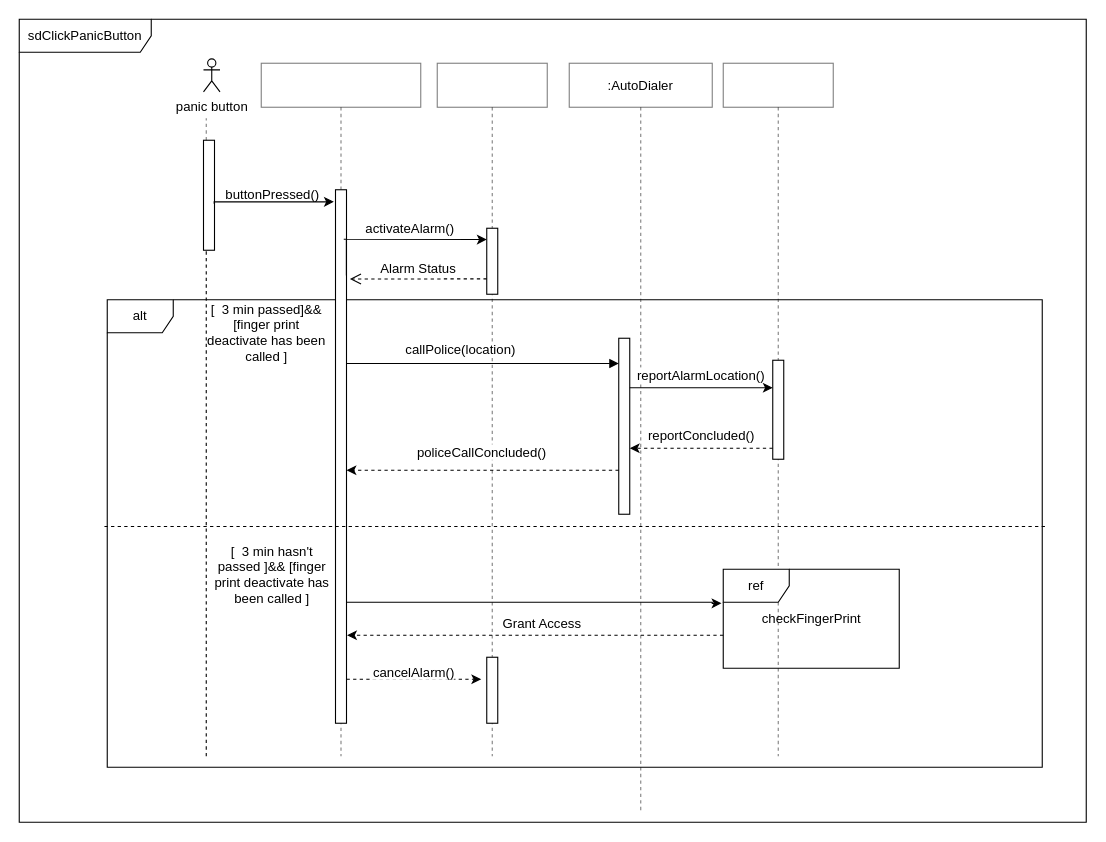
Image size: 1106x842. Some labels were removed from this diagram. The shapes that lost their labels are listed below. From the top down, each one's box as (x1, y1, x2, y2) in pixels, then its label:
(260, 62, 421, 756): :Processor
(436, 62, 547, 756): :SensorAlarm
(722, 62, 833, 756): VoiceSynthesizer
